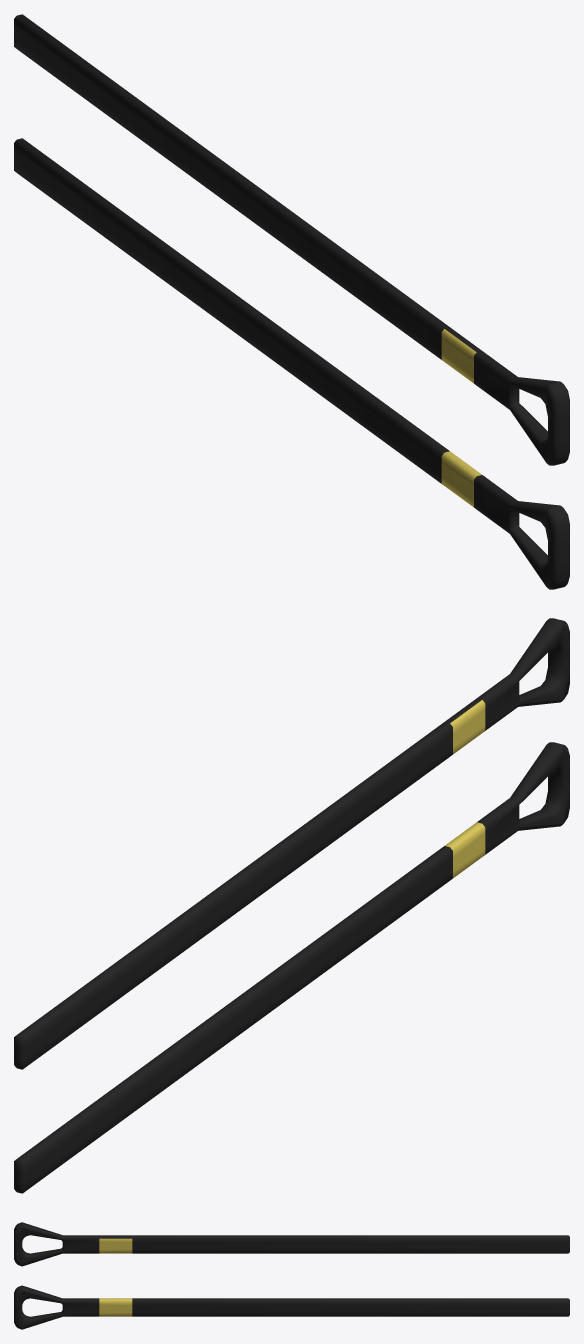
3 views of the same model, one above another, from view 1: azimuth 30°, elevation 25°; view 2: azimuth 150°, elevation 25°; view 3: azimuth 270°, elevation 25° (orthographic). The views are drawn at different scales.
Visible parts, largest first — view 1: Cube.001; view 2: Cube.001; view 3: Cube.001.
Boxes of the visible parts, bbox=[...] form: Cube.001: bbox=[14, 14, 569, 589]; Cube.001: bbox=[14, 618, 569, 1193]; Cube.001: bbox=[14, 1222, 569, 1329].
Size of the model in its own units: 6.95 by 80.44 by 387.
